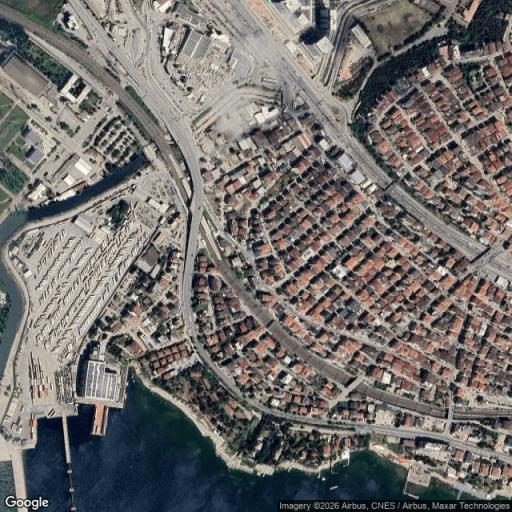ship: (328, 484, 339, 491)
